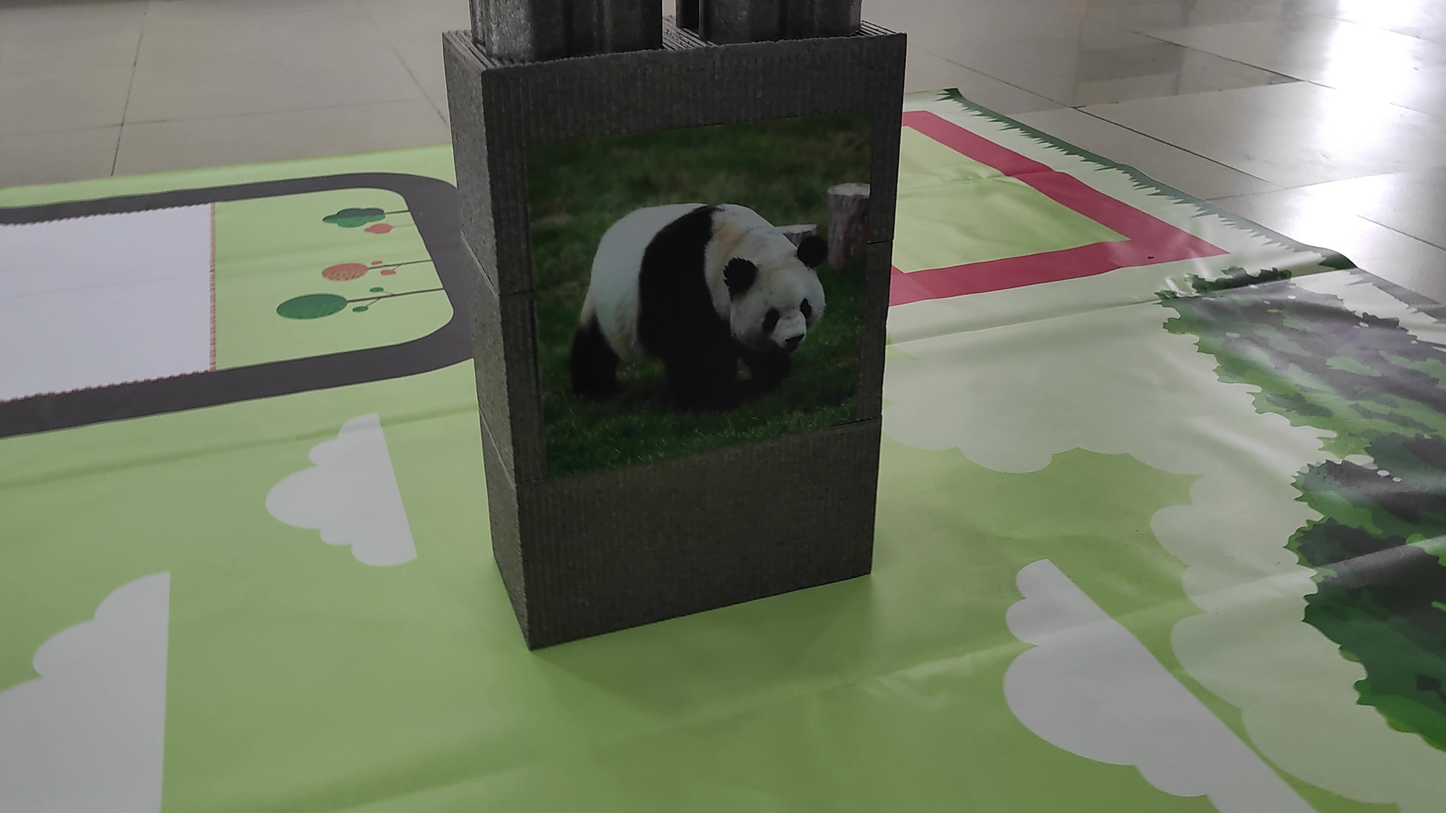panda: (564, 186, 851, 425)
